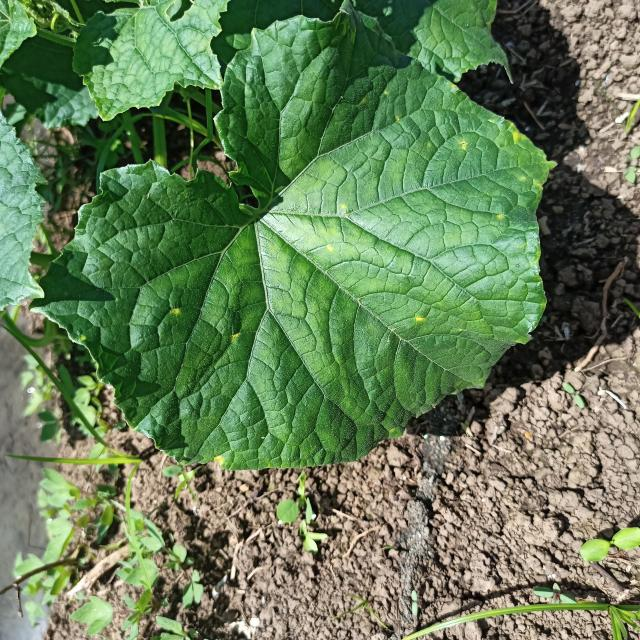disease_cucumber: (509, 124, 526, 144), (230, 332, 240, 341), (214, 454, 222, 464), (79, 334, 87, 343), (172, 308, 180, 315), (326, 245, 334, 252), (416, 316, 424, 322), (461, 142, 466, 150), (340, 203, 345, 210), (497, 214, 504, 218), (396, 118, 401, 121), (452, 84, 455, 88)
